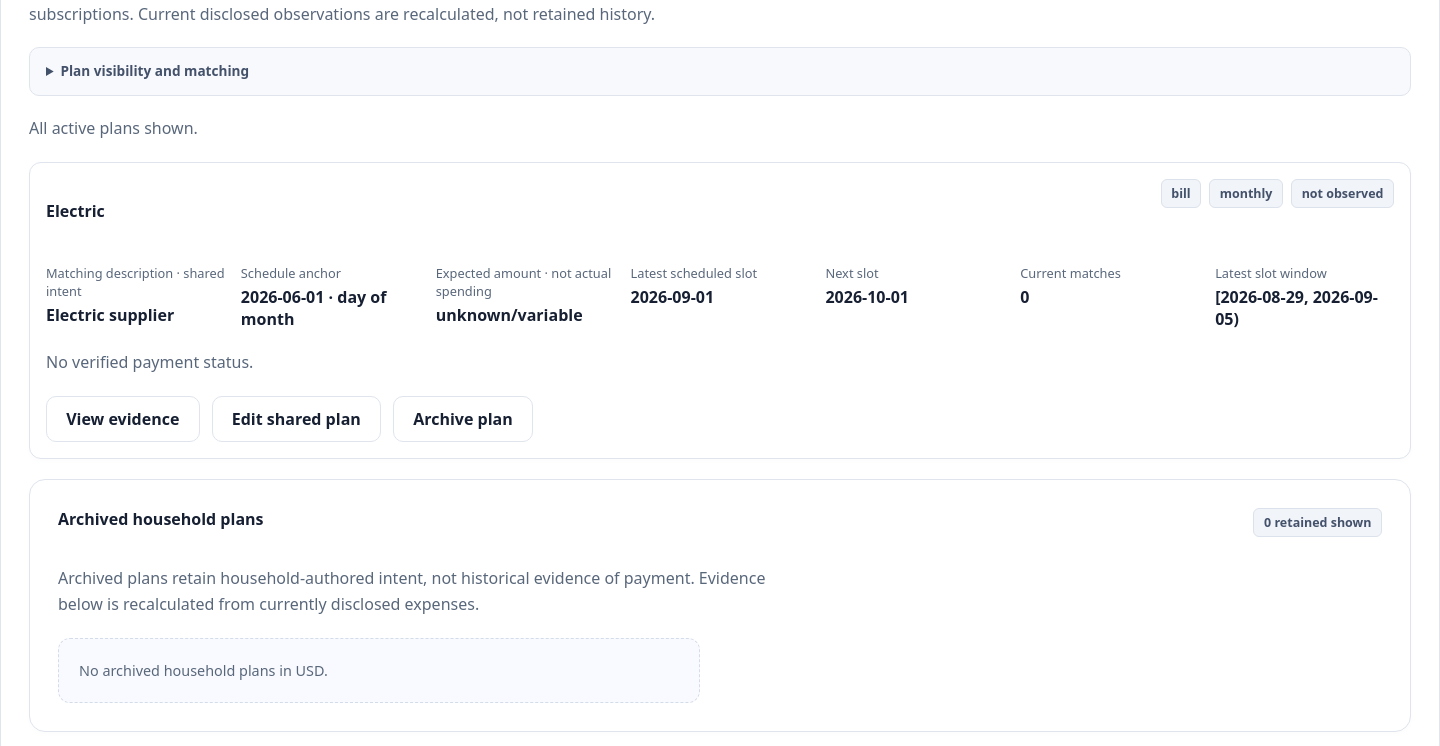
recurring household review and retained plans › does not keep an older active plan card after current observations reveal a remote archive
(page scrolled)
Step 1. Click the button "View evidence" → [123, 419], box x1=46 y1=396 x2=200 y2=442
(page scrolled)
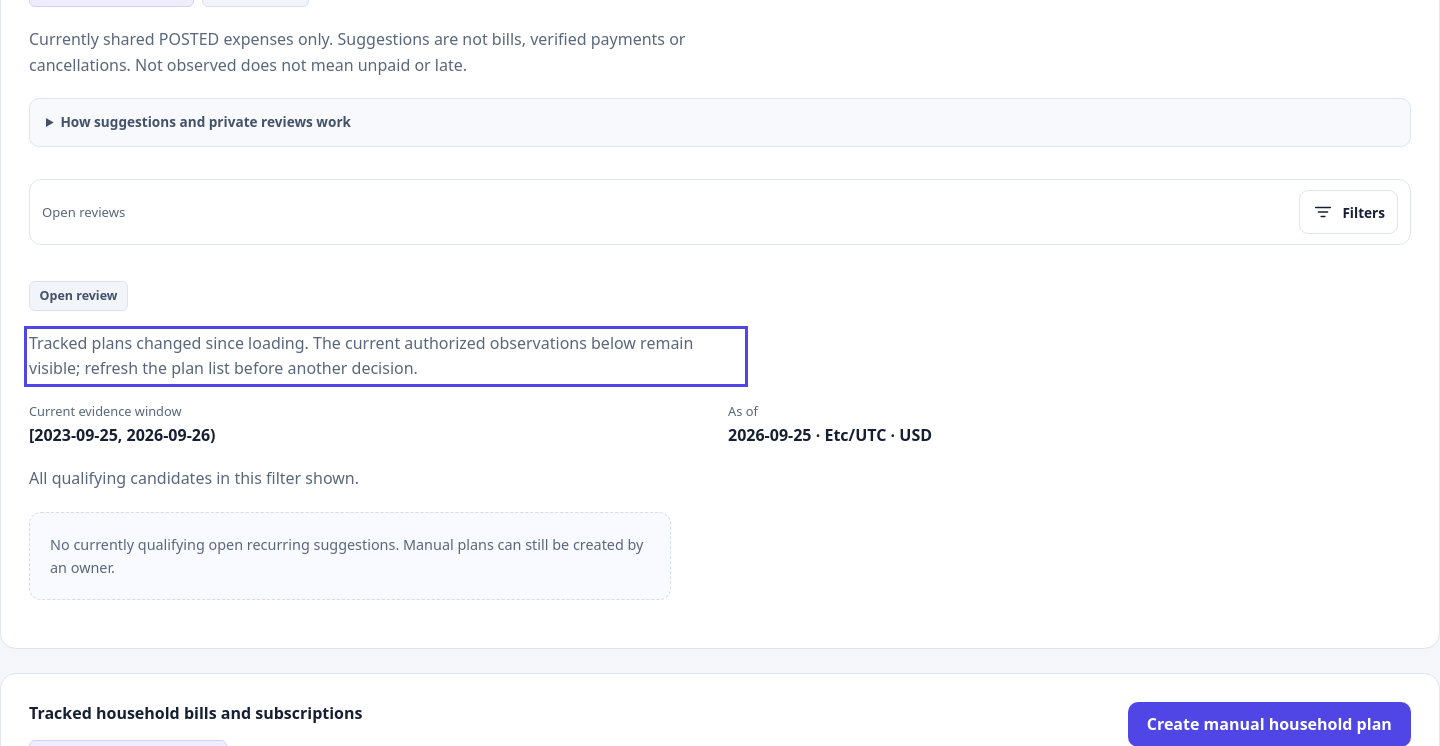
Check: the button "Archive plan" is gone
Check: the text "Tracked plans changed since loading" is shown, box x1=29 y1=332 x2=693 y2=379
